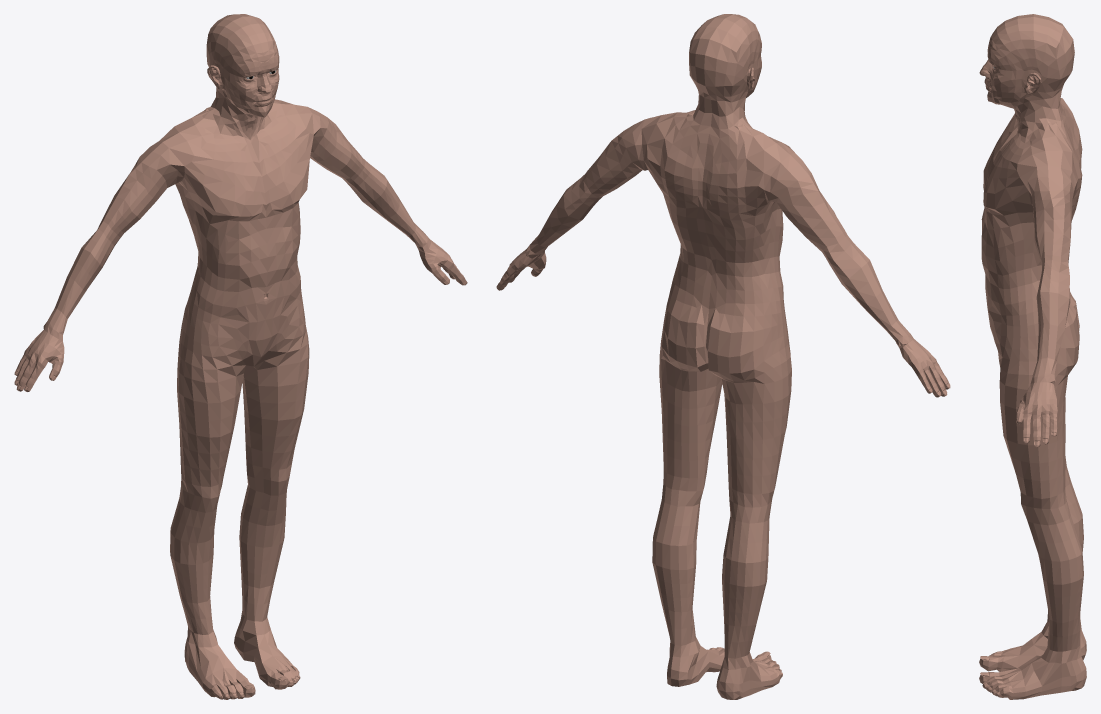
File: male_teen.obj
The picture shows the model from 3 angles, left to right: view 1: azimuth 30°, elevation 25°; view 2: azimuth 150°, elevation 25°; view 3: azimuth 270°, elevation 25°; orthographic projection.
Visible parts, largest first — view 1: male_teen_lo_Plane.005; view 2: male_teen_lo_Plane.005; view 3: male_teen_lo_Plane.005.
Boxes of the visible parts, x1=… form: male_teen_lo_Plane.005: x1=14, y1=14, x2=467, y2=699; male_teen_lo_Plane.005: x1=496, y1=14, x2=950, y2=699; male_teen_lo_Plane.005: x1=979, y1=14, x2=1086, y2=699.
Size of the model in its own units: 11.52 by 16.32 by 2.4.
